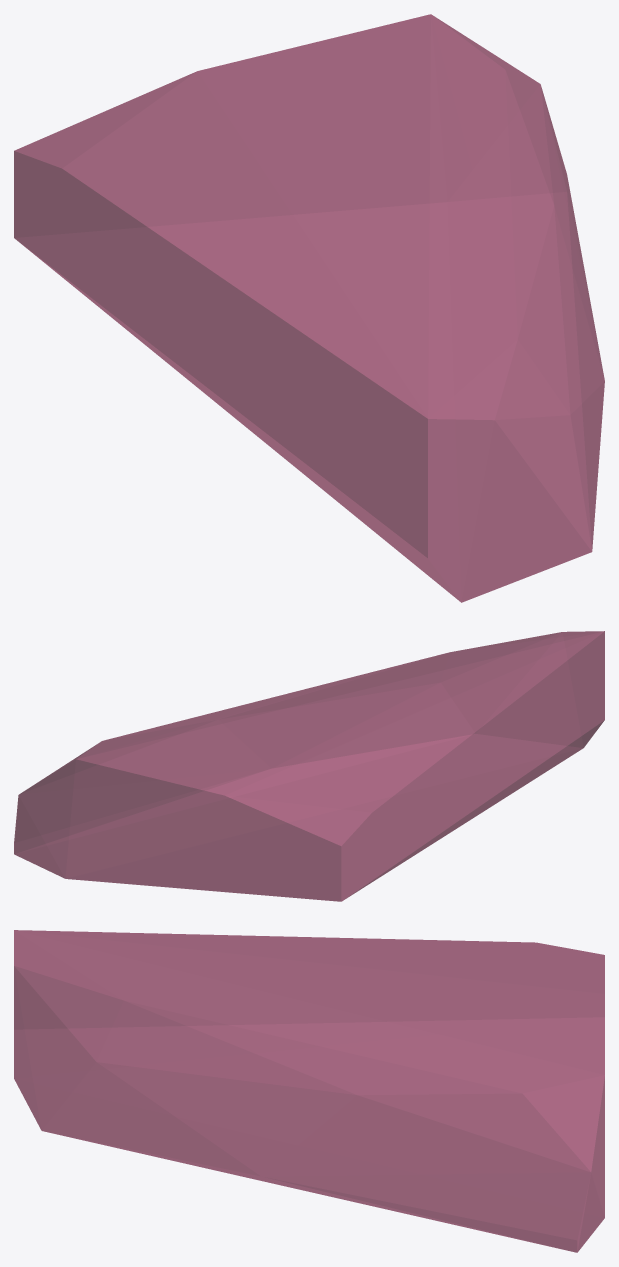
3 views of the same model, one above another, from view 1: azimuth 30°, elevation 25°; view 2: azimuth 150°, elevation 25°; view 3: azimuth 270°, elevation 25° (orthographic). The views are drawn at different scales.
Parts seen in each view (by area): view 1: Shape_IndexedFaceSet.072_Shape_IndexedFaceSet.13144; view 2: Shape_IndexedFaceSet.072_Shape_IndexedFaceSet.13144; view 3: Shape_IndexedFaceSet.072_Shape_IndexedFaceSet.13144.
Part boxes in pixels (x1,y1,x2,y2): Shape_IndexedFaceSet.072_Shape_IndexedFaceSet.13144: (14,14,604,602); Shape_IndexedFaceSet.072_Shape_IndexedFaceSet.13144: (14,631,604,901); Shape_IndexedFaceSet.072_Shape_IndexedFaceSet.13144: (14,930,604,1252).
Size of the model in its own units: 0.0726 by 0.0249 by 0.0975.
